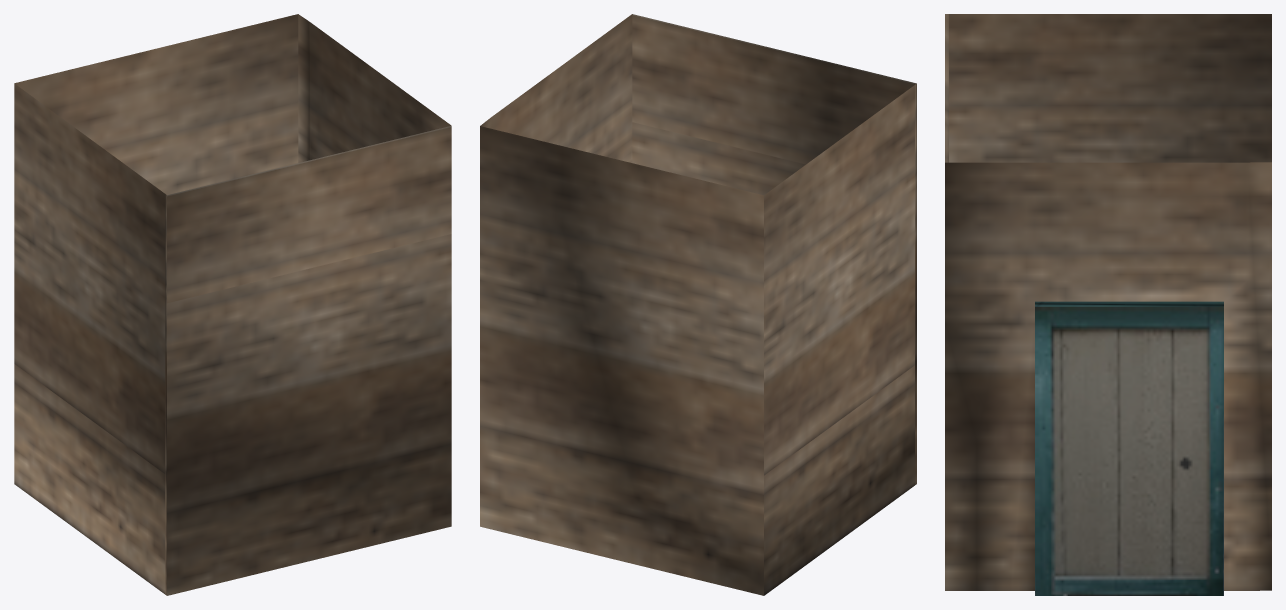
The picture shows the model from 3 angles, left to right: view 1: azimuth 30°, elevation 25°; view 2: azimuth 150°, elevation 25°; view 3: azimuth 270°, elevation 25°; orthographic projection. The views are drawn at different scales.
Visible parts, largest first — view 1: bathroom_0; view 2: bathroom_0; view 3: bathroom_0.
Boxes of the visible parts, x1=… form: bathroom_0: x1=14, y1=14, x2=451, y2=595; bathroom_0: x1=480, y1=14, x2=916, y2=595; bathroom_0: x1=945, y1=14, x2=1271, y2=595.
Bounding box in the file's own units: 0.8826 × 1.15 × 0.7942.
15 materials, 6 textured.
